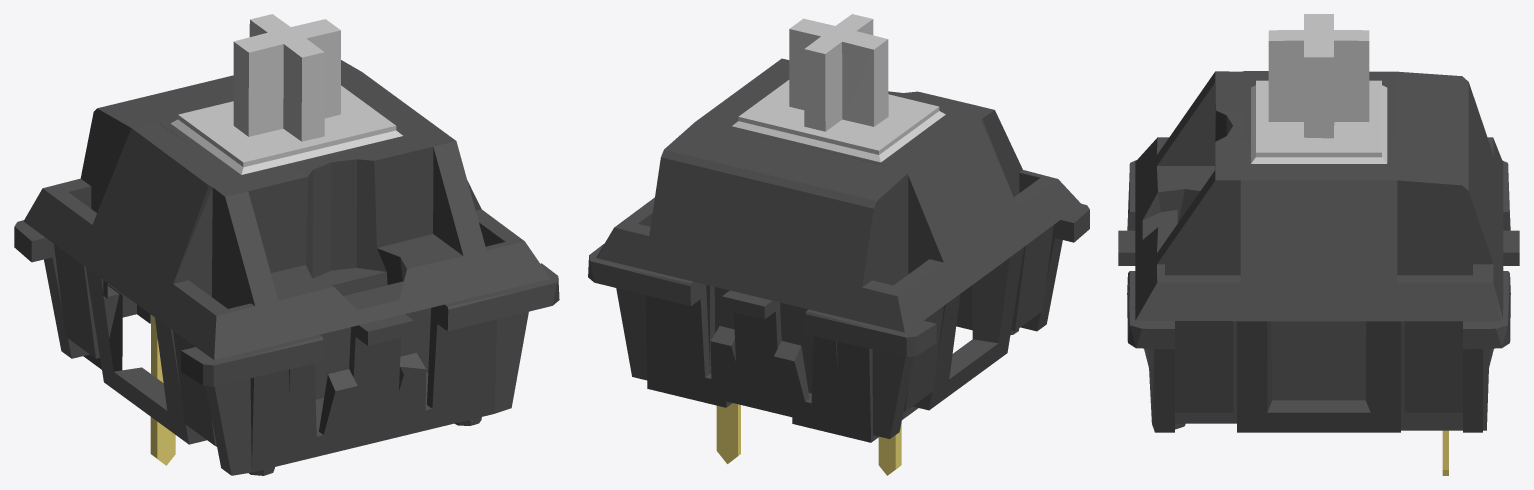
Rendered from MX_SWITCH_opt_2.glb.
3 views of the same model, side by side, from view 1: azimuth 30°, elevation 25°; view 2: azimuth 150°, elevation 25°; view 3: azimuth 270°, elevation 25° (orthographic). The views are drawn at different scales.
Parts seen in each view (by area): view 1: switch: 7-7; view 2: switch: 7-7; view 3: switch: 7-7.
Boxes of the visible parts, left/top/right/bottom form: switch: 7-7: left=14, top=14, right=559, bottom=475; switch: 7-7: left=588, top=14, right=1089, bottom=475; switch: 7-7: left=1118, top=14, right=1519, bottom=475.
Size of the model in its own units: 16 by 18.27 by 16.
